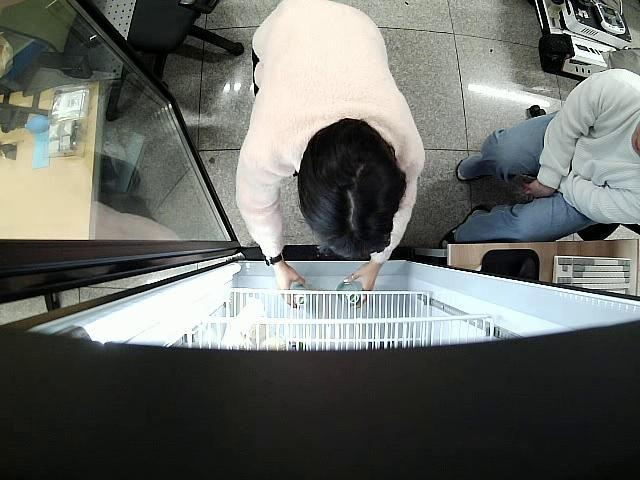18_trevi: (336, 280, 364, 304), (292, 278, 313, 309)
